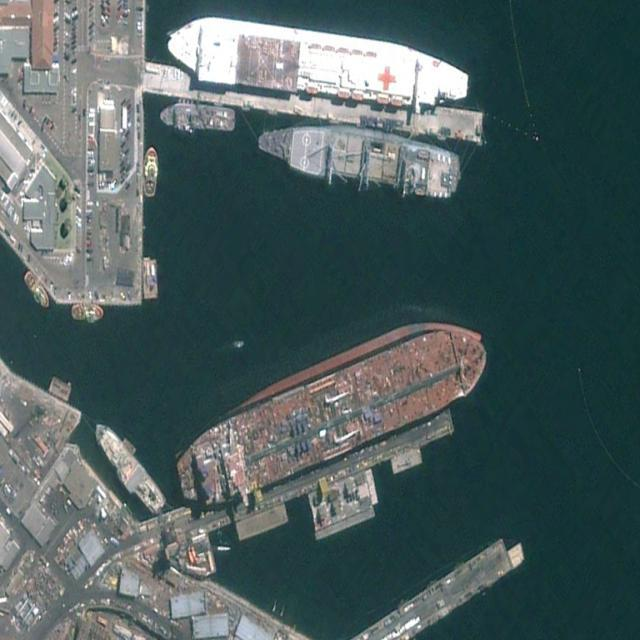Auxiliary Ships: (165, 10, 471, 117)
Cargo: (167, 294, 496, 521)
Hovercraft: (21, 269, 53, 310), (142, 144, 159, 197), (71, 303, 103, 322)
Other Ship: (255, 111, 462, 202), (85, 417, 169, 521), (159, 100, 236, 135)
